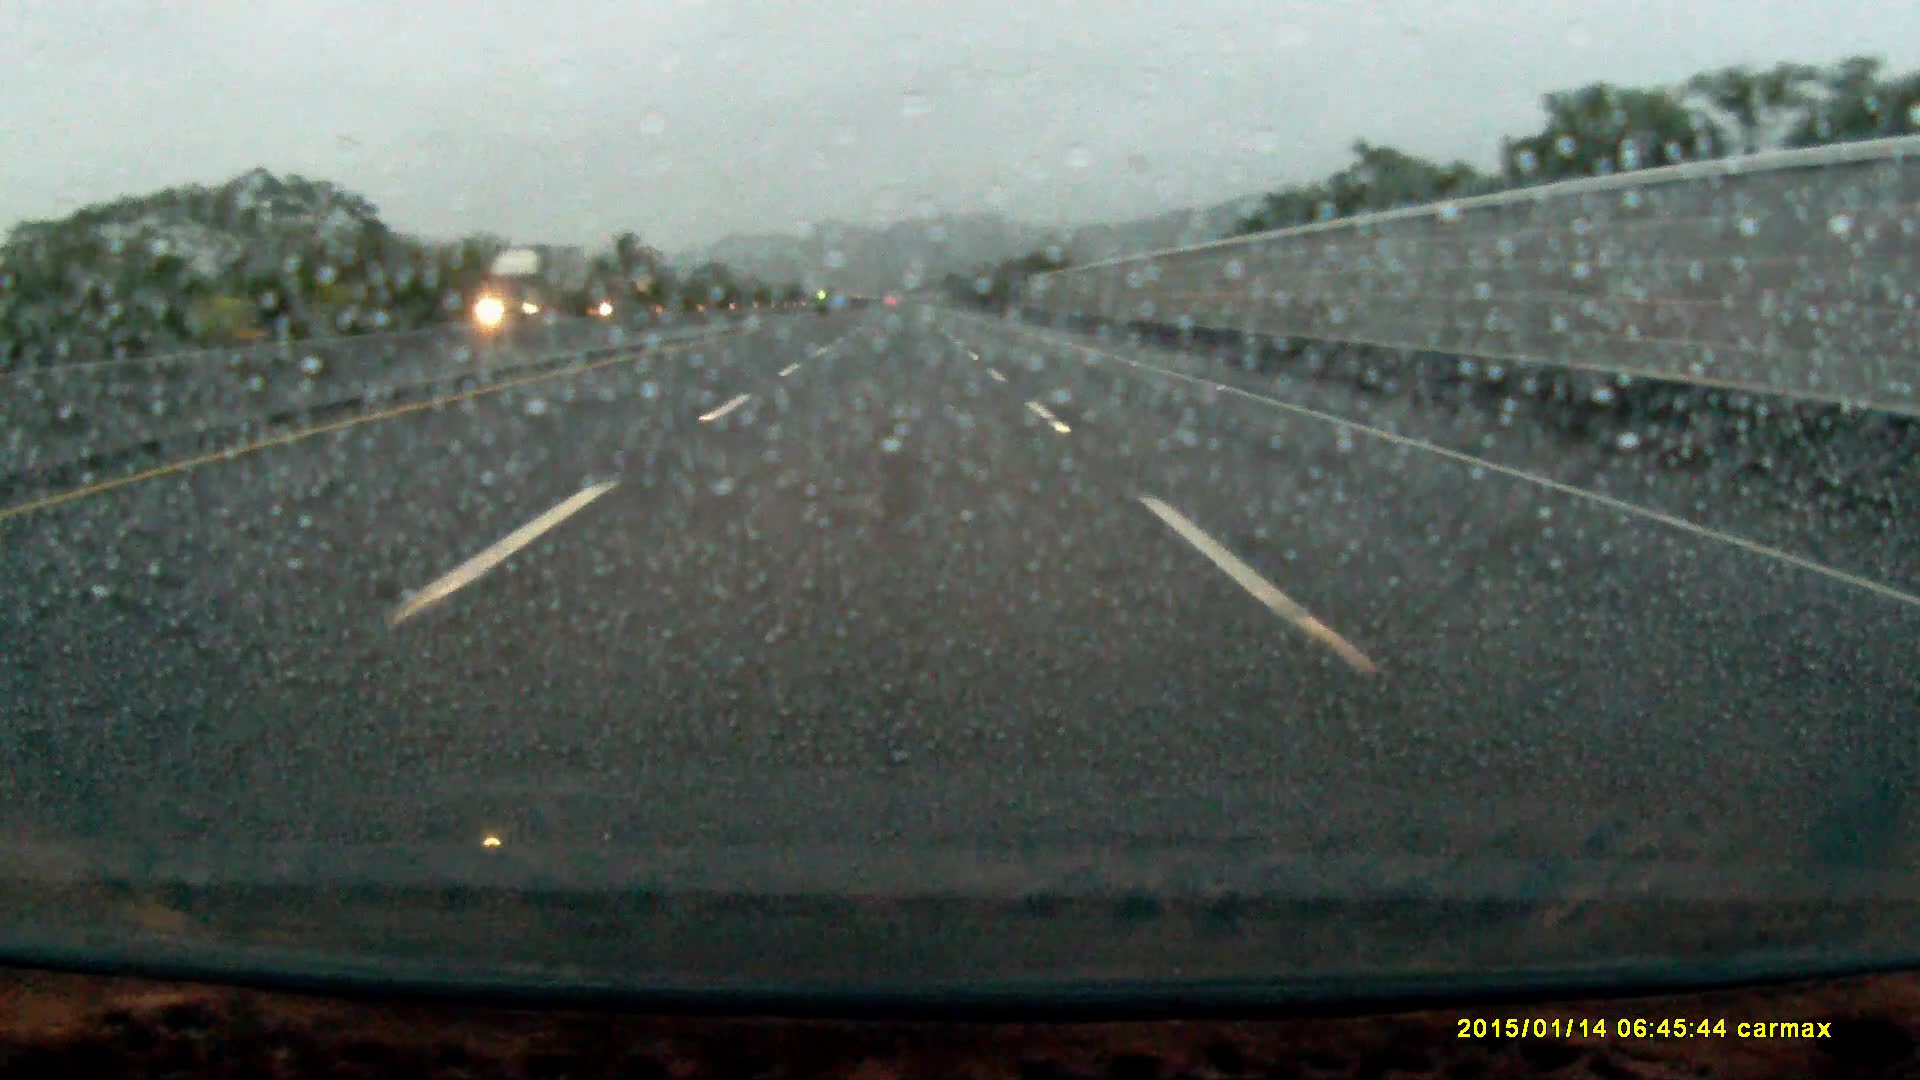vehicle: (476, 245, 592, 318)
